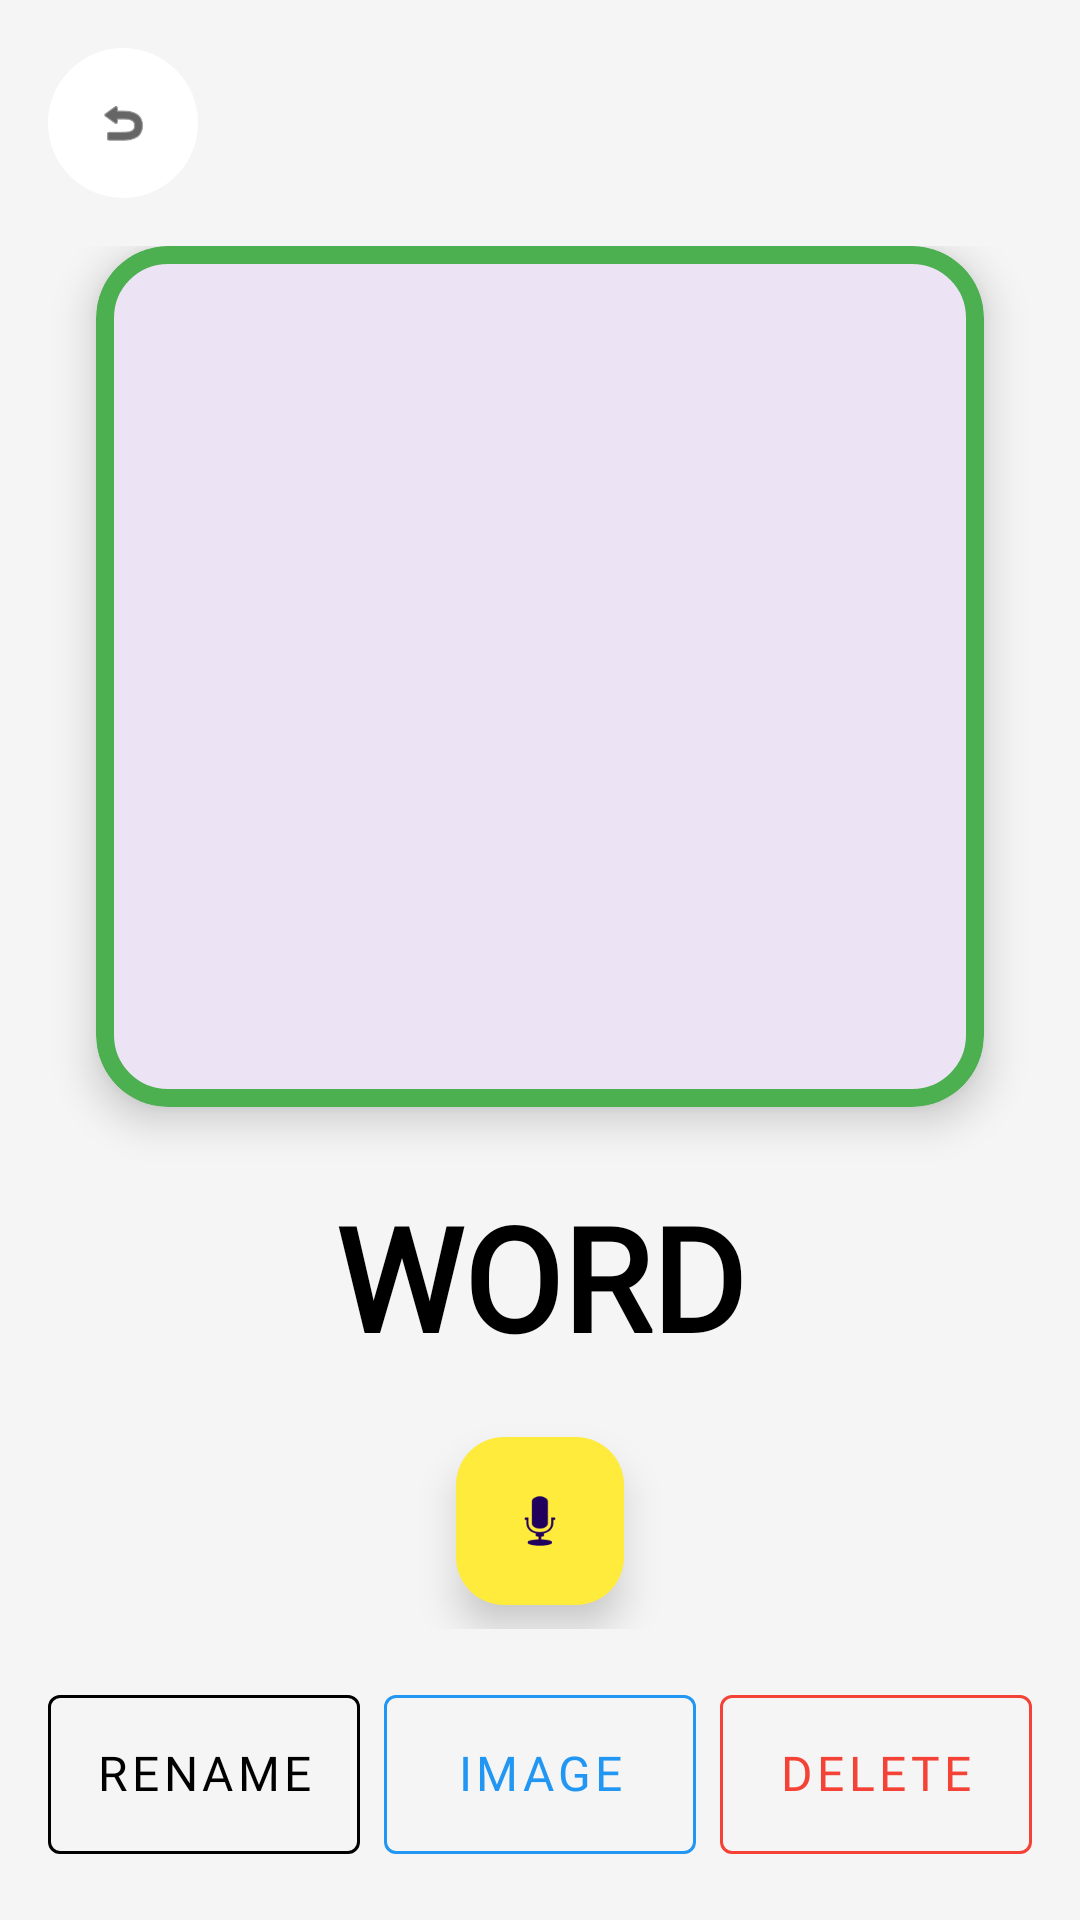

Named icons in this screenshot (1080w x 1920h) and their bounding boxes, (x1, y1, x2, y2):
revert: (104, 106, 143, 141)
speak now: (456, 1437, 624, 1605)
